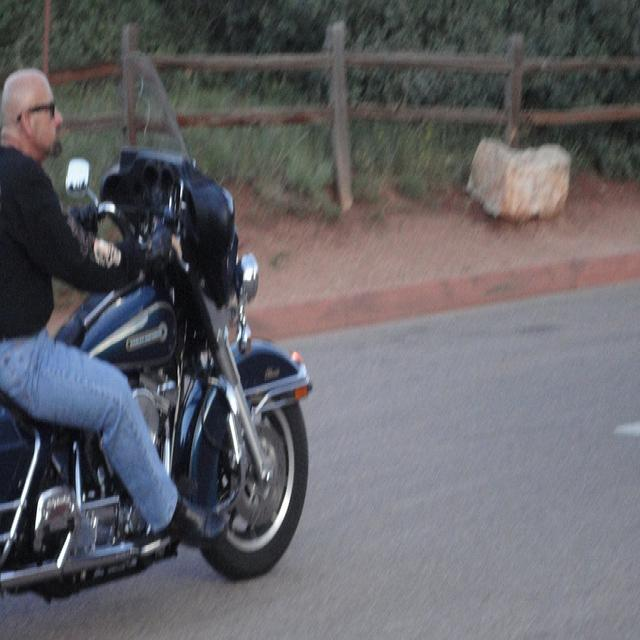motor: (3, 148, 316, 596)
